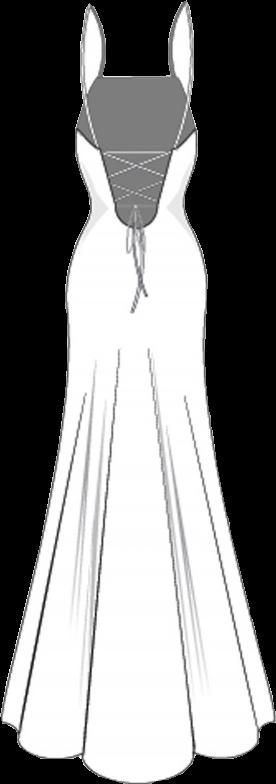Bodice: (75, 1, 197, 232)
Hemline: (0, 710, 275, 783)
Neckline: (71, 128, 199, 232)
Skirt: (0, 231, 275, 781)
